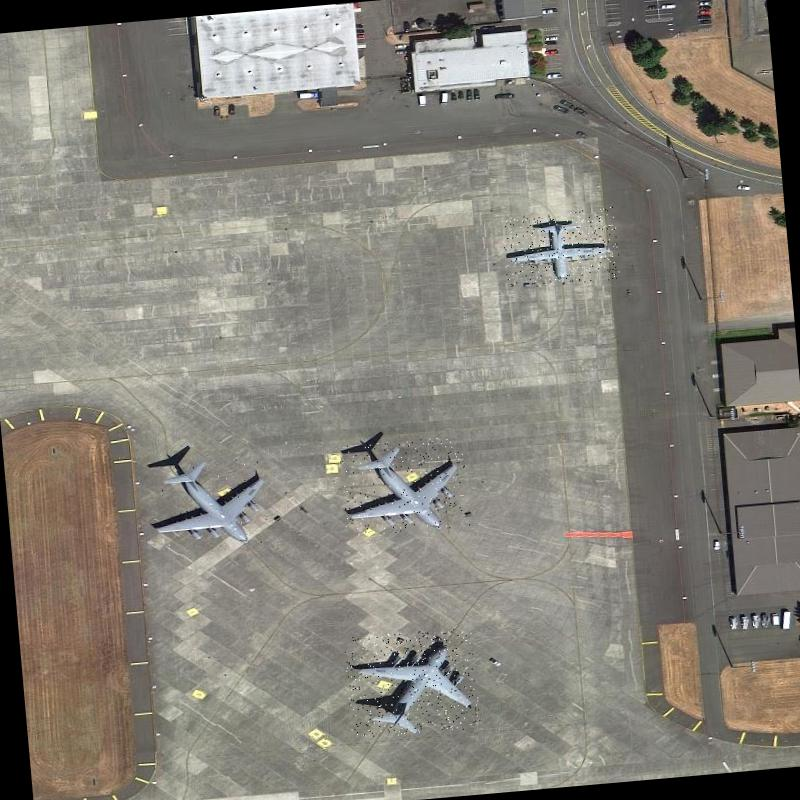A2: (501, 206, 622, 290)
A3: (344, 626, 480, 740), (338, 436, 470, 538), (148, 454, 276, 556)
